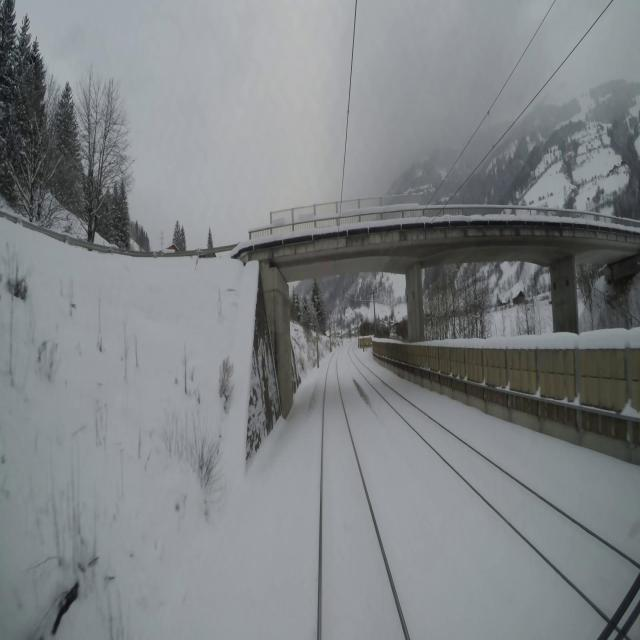rail-track: (350, 347, 639, 616), (322, 354, 405, 639)
